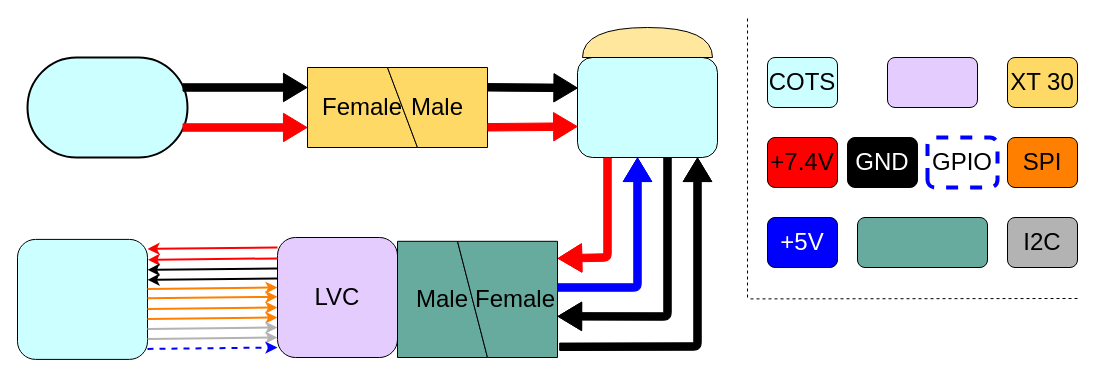
The diagram is 1096 pixels wide and 377 high, and some of its shapes have lost their labels. Here are the shapes that lost their labels. From the top down, the box of each, then its label:
(582, 26, 712, 58): LED
(886, 56, 978, 108): Custom
(26, 56, 188, 158): Battery
(576, 56, 718, 158): Switch
(856, 216, 988, 268): Microclasp
(16, 238, 148, 359): LiteAPRS
